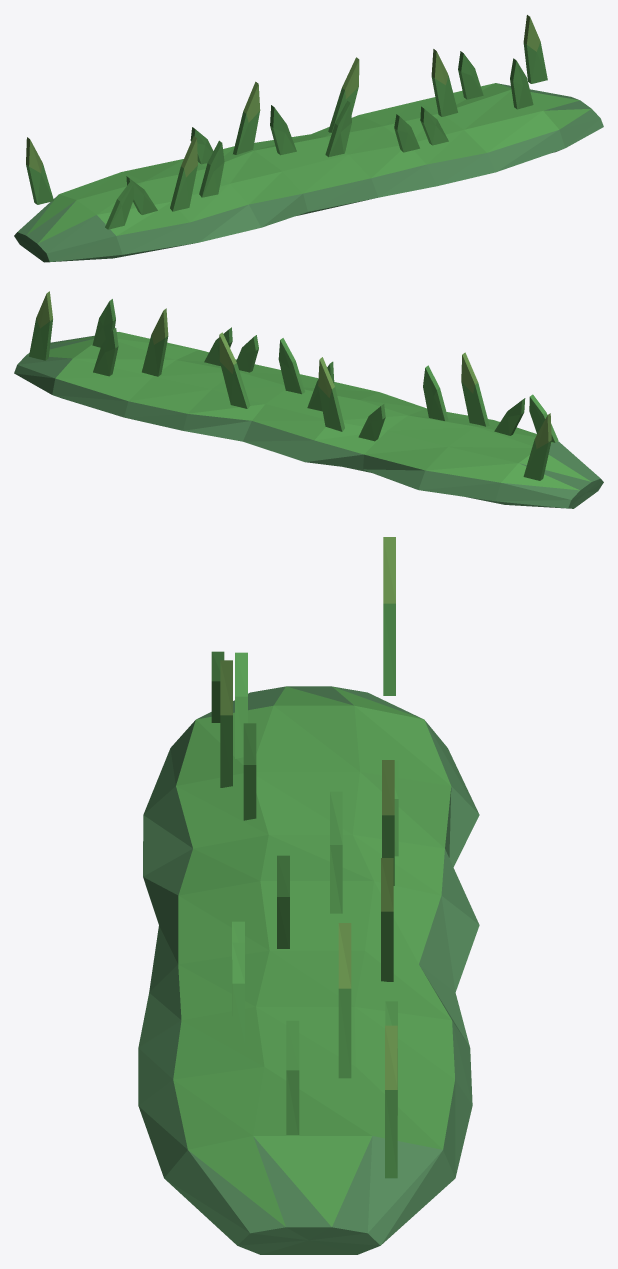
The model's file is ledge_z1_kelp_medium.glb.
3 renders of one model, top to bottom at view 1: azimuth 30°, elevation 25°; view 2: azimuth 150°, elevation 25°; view 3: azimuth 270°, elevation 25°, orthographic. The views are drawn at different scales.
Parts seen in each view (by area): view 1: ledge_z1_kelp_medium; view 2: ledge_z1_kelp_medium; view 3: ledge_z1_kelp_medium.
Boxes of the visible parts, x1,y1,x2,y2 form: ledge_z1_kelp_medium: [14, 15, 603, 262]; ledge_z1_kelp_medium: [14, 291, 603, 508]; ledge_z1_kelp_medium: [138, 537, 479, 1254].
Bounding box in the file's own units: 6 × 1 × 1.6.
